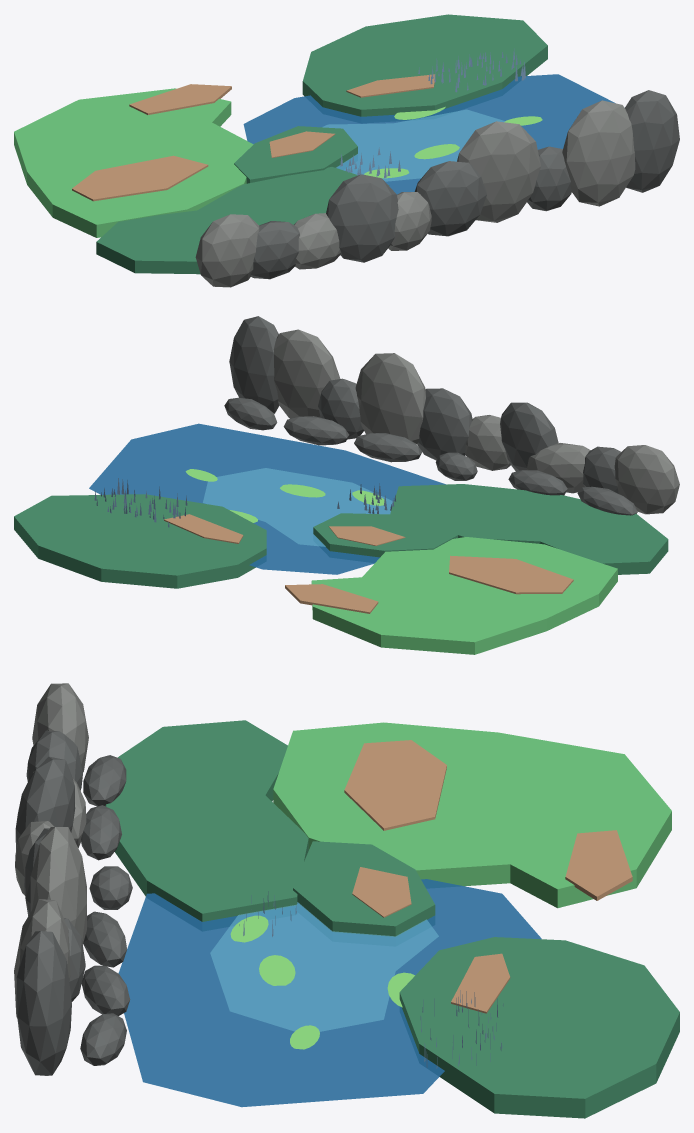
File: redlance_pondside_blender_level_base.glb
The picture shows the model from 3 angles, top to bottom: view 1: azimuth 30°, elevation 25°; view 2: azimuth 150°, elevation 25°; view 3: azimuth 270°, elevation 25°; orthographic projection. The views are drawn at different scales.
Parts seen in each view (by area): view 1: Land_West_Lower_Bank, Land_Southeast_Bank, Pond_Water_Main, Land_Northwest_Bank, Back_Cliff_Rock_9, Pond_Shallow_Water_Shelf, Back_Cliff_Rock_7, Back_Cliff_Rock_4, Back_Cliff_Rock_10, Back_Cliff_Rock_6, Land_Center_Peninsula, Back_Cliff_Rock_1 (+9 smaller); view 2: Pond_Water_Main, Land_West_Lower_Bank, Land_Southeast_Bank, Land_Northwest_Bank, Pond_Shallow_Water_Shelf, Back_Cliff_Rock_7, Back_Cliff_Rock_9, Land_Center_Peninsula, Back_Cliff_Rock_10, Back_Cliff_Rock_1, Mud_Player_Start_Bank, Back_Cliff_Rock_6 (+14 smaller); view 3: Pond_Water_Main, Land_West_Lower_Bank, Land_Southeast_Bank, Land_Northwest_Bank, Pond_Shallow_Water_Shelf, Land_Center_Peninsula, Mud_Player_Start_Bank, Back_Cliff_Rock_10, Back_Cliff_Rock_7, Mud_South_Shore, Back_Cliff_Rock_4, Back_Cliff_Rock_1 (+14 smaller).
Boxes of the visible parts, x1,y1,x2,y2 form: Land_West_Lower_Bank: (14, 88, 253, 237); Land_Southeast_Bank: (302, 14, 547, 116); Pond_Water_Main: (243, 74, 615, 194); Land_Northwest_Bank: (96, 167, 389, 274); Back_Cliff_Rock_9: (562, 100, 635, 206); Pond_Shallow_Water_Shelf: (322, 109, 504, 181); Back_Cliff_Rock_7: (457, 121, 540, 222); Back_Cliff_Rock_4: (326, 174, 398, 262); Back_Cliff_Rock_10: (625, 90, 679, 192); Back_Cliff_Rock_6: (414, 161, 486, 236); Land_Center_Peninsula: (234, 126, 357, 183); Back_Cliff_Rock_1: (195, 214, 259, 287); Pond_Water_Main: (89, 423, 446, 574); Land_West_Lower_Bank: (311, 537, 617, 654); Land_Southeast_Bank: (14, 494, 266, 588); Land_Northwest_Bank: (390, 484, 668, 574); Pond_Shallow_Water_Shelf: (203, 468, 392, 546); Back_Cliff_Rock_7: (355, 353, 425, 443); Back_Cliff_Rock_9: (273, 329, 340, 418); Land_Center_Peninsula: (313, 513, 457, 557); Back_Cliff_Rock_10: (229, 316, 279, 413); Back_Cliff_Rock_1: (614, 445, 679, 514); Mud_Player_Start_Bank: (449, 555, 573, 594); Back_Cliff_Rock_6: (417, 388, 472, 460); Pond_Water_Main: (118, 879, 541, 1107); Land_West_Lower_Bank: (273, 722, 671, 908); Land_Southeast_Bank: (399, 937, 679, 1118); Land_Northwest_Bank: (105, 720, 308, 921); Pond_Shallow_Water_Shelf: (210, 902, 438, 1031); Land_Center_Peninsula: (293, 841, 435, 936); Mud_Player_Start_Bank: (344, 740, 446, 830); Back_Cliff_Rock_10: (15, 931, 71, 1075); Back_Cliff_Rock_7: (30, 827, 86, 944); Mud_South_Shore: (565, 830, 632, 900); Back_Cliff_Rock_4: (15, 756, 75, 850); Back_Cliff_Rock_1: (32, 683, 88, 772).
Size of the model in its own units: 22.8 by 4.17 by 16.87.
